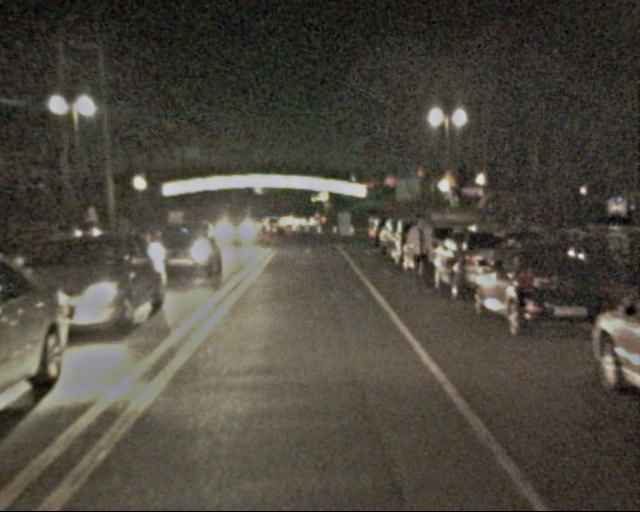person: (402, 213, 438, 302)
